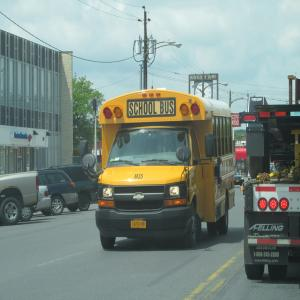Vehicle-registration-plate: (131, 219, 147, 231)
